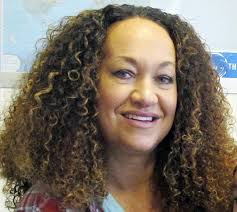white_female: (86, 31, 207, 158)
